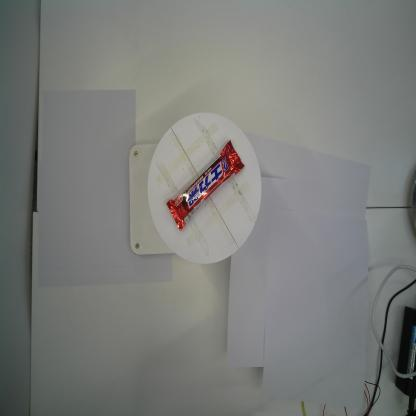Chocolate: (166, 137, 244, 234)
